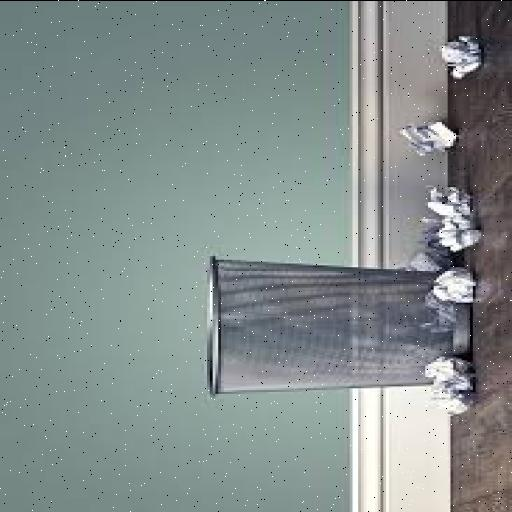poubelle_vide: (177, 244, 473, 410)
